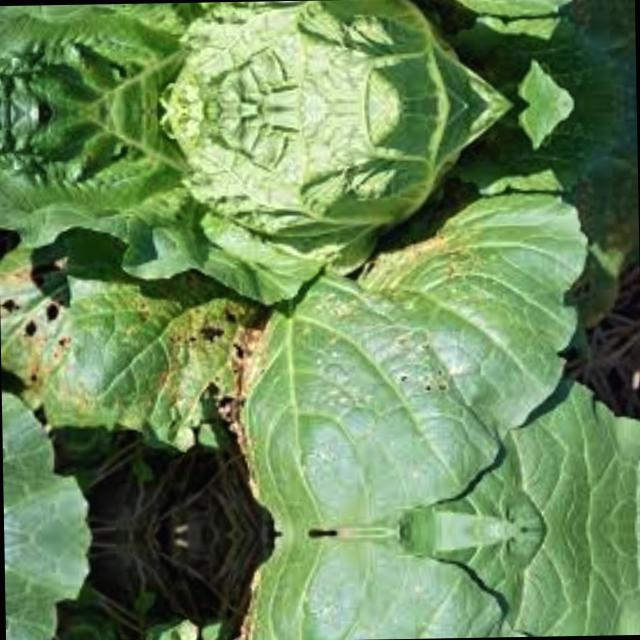Downy_mildew: (0, 187, 536, 480), (6, 587, 539, 640), (0, 0, 528, 28)
